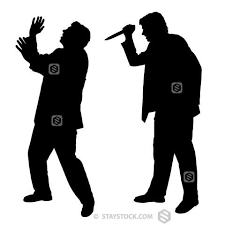knife: (102, 22, 136, 45)
